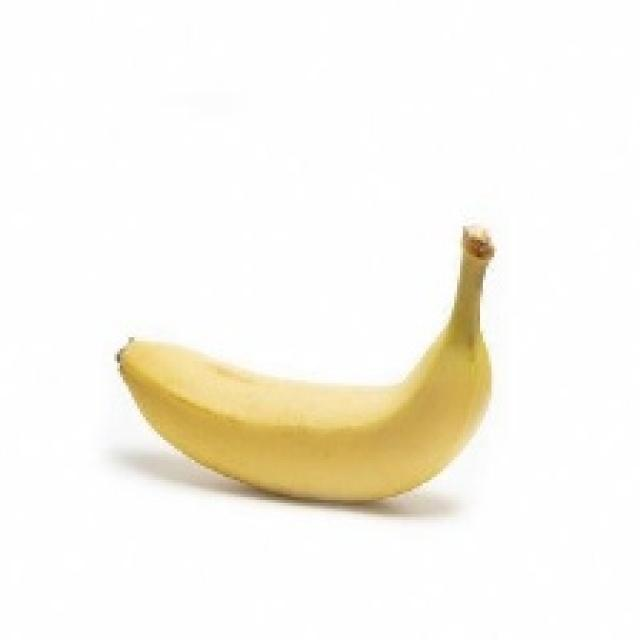Banana: (114, 220, 494, 503)
